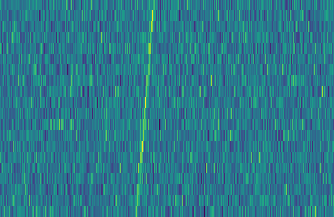signal: (132, 0, 158, 217)
